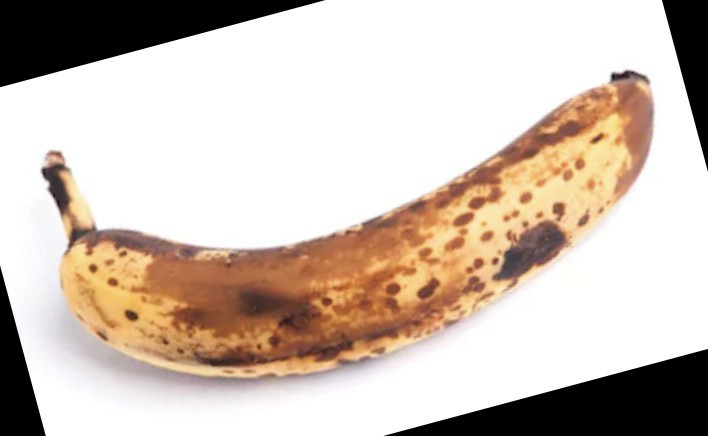rotten_banana: (43, 80, 677, 377)
